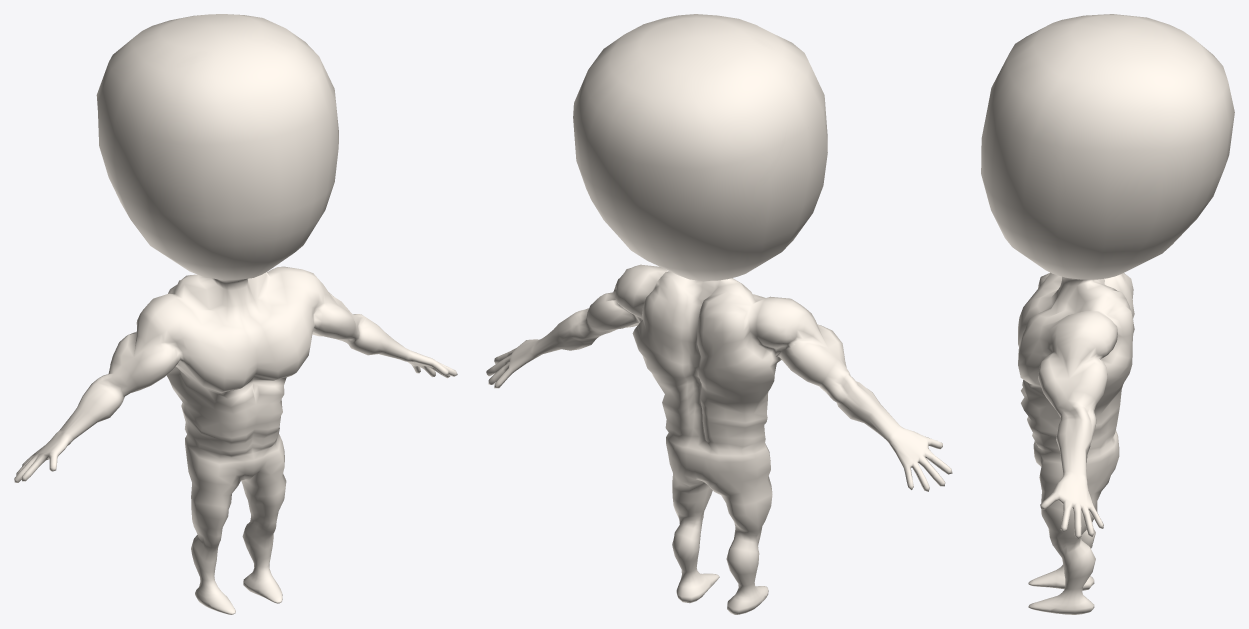
Rendered from VeryLowPolySamOtherUV2AndSmooth.fbx.
3 views of the same model, side by side, from view 1: azimuth 30°, elevation 25°; view 2: azimuth 150°, elevation 25°; view 3: azimuth 270°, elevation 25° (orthographic). The views are drawn at different scales.
Parts seen in each view (by area): view 1: LowPolySamTestSmooth; view 2: LowPolySamTestSmooth; view 3: LowPolySamTestSmooth.
Part boxes in pixels (x1,y1,x2,y2): LowPolySamTestSmooth: [14, 14, 457, 614]; LowPolySamTestSmooth: [486, 14, 952, 614]; LowPolySamTestSmooth: [981, 14, 1234, 614].
Size of the model in its own units: 225 by 274 by 111.
